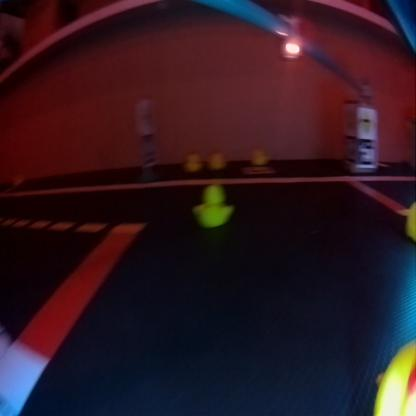Duckie: (374, 342, 414, 414), (193, 184, 230, 227), (407, 201, 415, 239), (209, 152, 224, 168), (253, 150, 268, 165), (186, 154, 198, 172)
Intersection sign: (359, 110, 374, 135)
QR code: (358, 140, 376, 168), (344, 136, 355, 164)
Traffic light: (278, 14, 301, 58)
